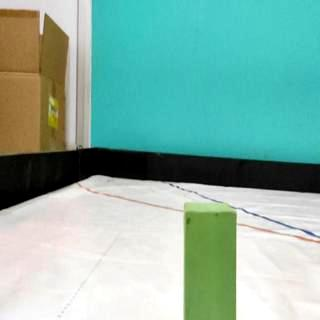greenbox: (182, 200, 238, 320)
